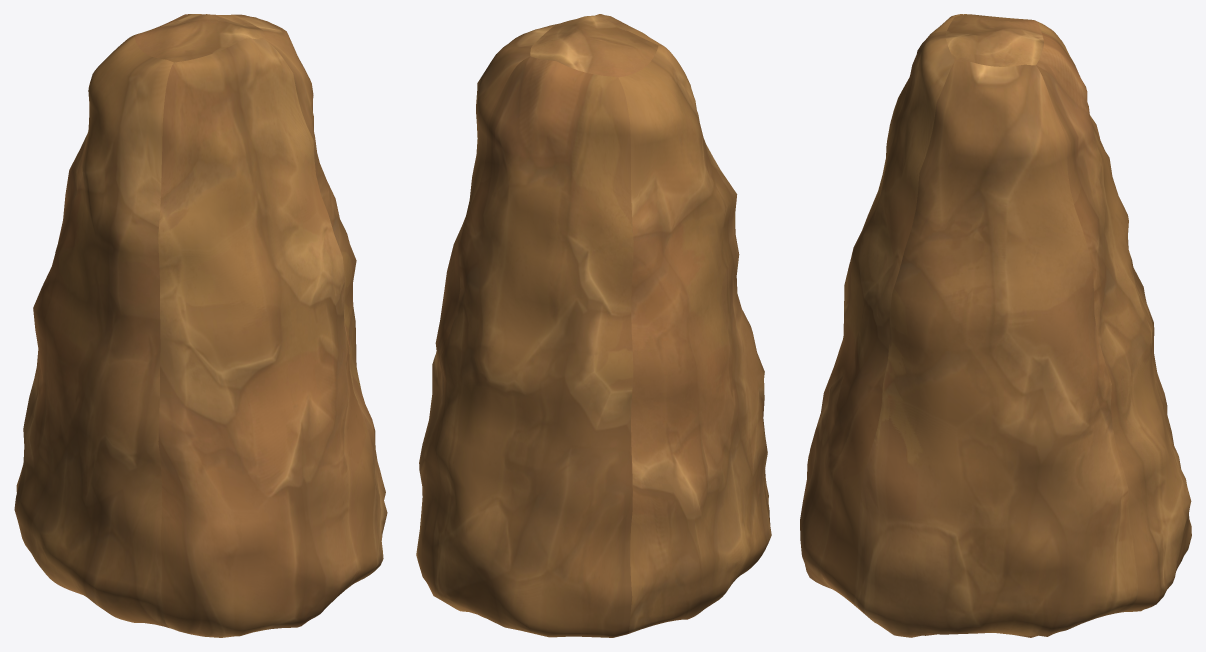
The model's file is islands4.fbx.
The picture shows the model from 3 angles, left to right: view 1: azimuth 30°, elevation 25°; view 2: azimuth 150°, elevation 25°; view 3: azimuth 270°, elevation 25°; orthographic projection. The views are drawn at different scales.
Visible parts, largest first — view 1: Cube.003; view 2: Cube.003; view 3: Cube.003.
Part boxes in pixels (x1=…): Cube.003: x1=14, y1=14, x2=387, y2=637; Cube.003: x1=416, y1=14, x2=771, y2=637; Cube.003: x1=800, y1=14, x2=1191, y2=637.
Bounding box in the file's own units: 913 × 1641 × 1013.
Materials: 1 (1 with a texture image).
